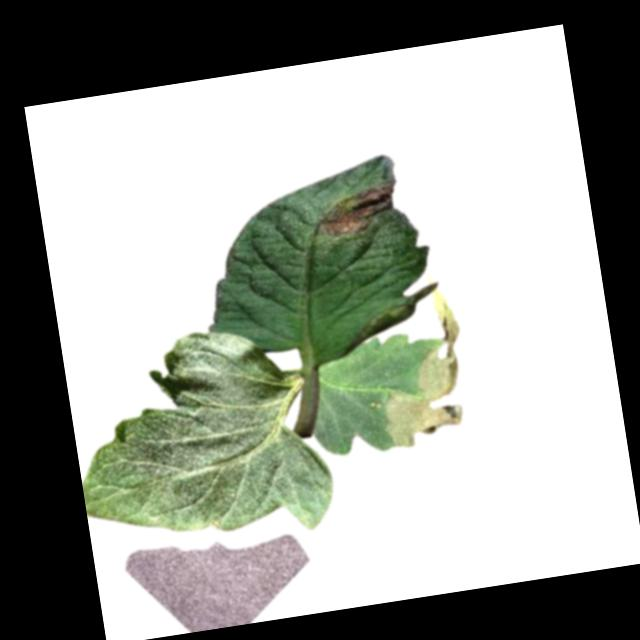Late_blight: (369, 291, 477, 450), (307, 179, 402, 241)
healthy: (62, 315, 337, 564)
